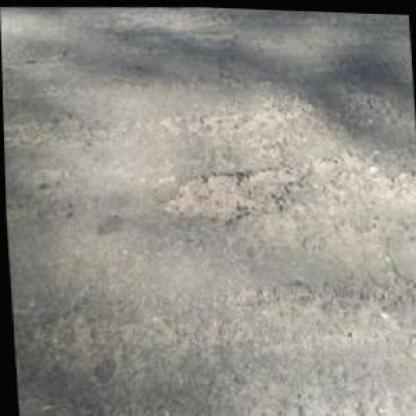pothole: (159, 158, 308, 229)
